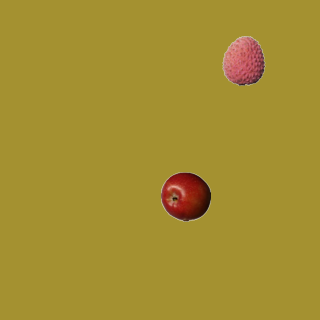Apple Braeburn: (160, 171, 210, 221)
Lychee: (218, 35, 268, 85)
